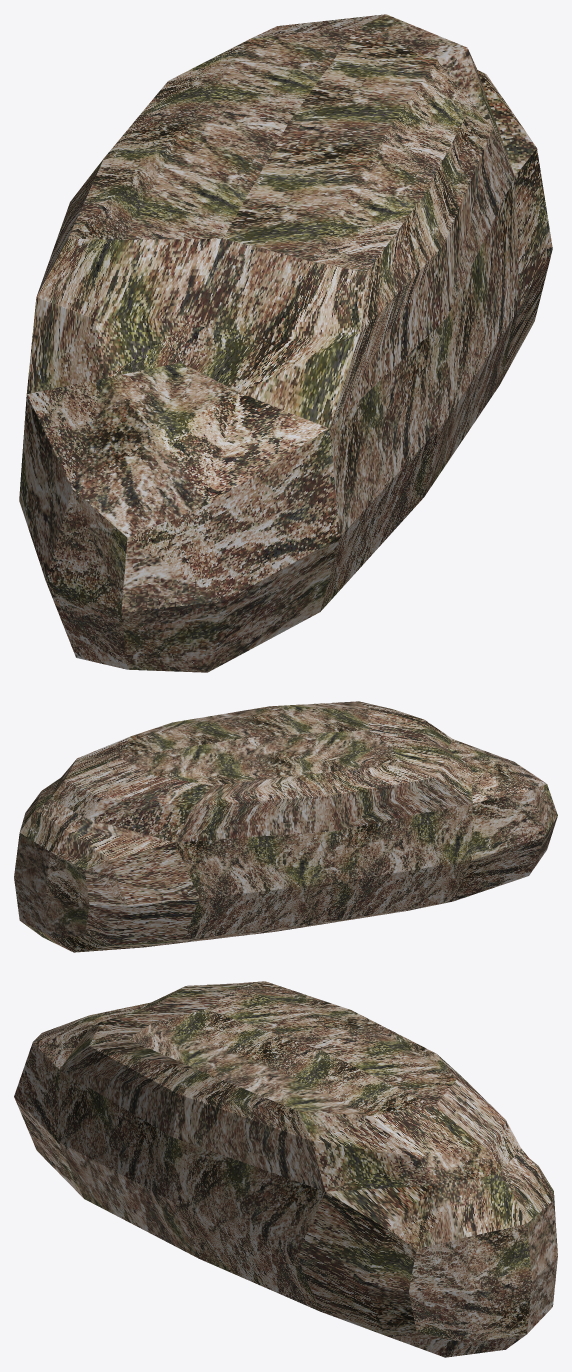
File: pixel_rock3_lowpoly.fbx
3 renders of one model, top to bottom at view 1: azimuth 30°, elevation 25°; view 2: azimuth 150°, elevation 25°; view 3: azimuth 270°, elevation 25°, orthographic. The views are drawn at different scales.
Parts seen in each view (by area): view 1: psx_rock3_lowpoly; view 2: psx_rock3_lowpoly; view 3: psx_rock3_lowpoly.
Part boxes in pixels (x1,y1,x2,y2): psx_rock3_lowpoly: [19, 14, 552, 672]; psx_rock3_lowpoly: [14, 701, 557, 952]; psx_rock3_lowpoly: [14, 981, 557, 1357].
Bounding box in the file's own units: 1635 × 746 × 1635.
